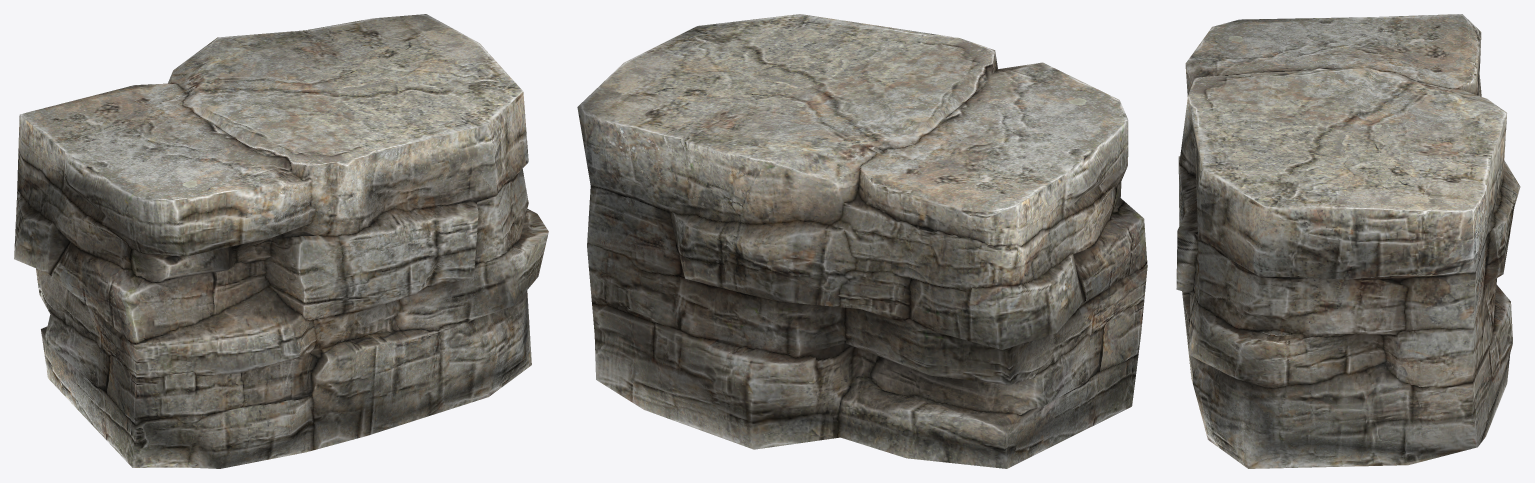
Rendered from Cliff1_LOD1.fbx.
3 renders of one model, left to right at view 1: azimuth 30°, elevation 25°; view 2: azimuth 150°, elevation 25°; view 3: azimuth 270°, elevation 25°, orthographic. The views are drawn at different scales.
Parts seen in each view (by area): view 1: Cliff1_400_Group22018; view 2: Cliff1_400_Group22018; view 3: Cliff1_400_Group22018.
Part boxes in pixels (x1,y1,x2,y2): Cliff1_400_Group22018: [14, 14, 548, 468]; Cliff1_400_Group22018: [577, 14, 1147, 468]; Cliff1_400_Group22018: [1176, 14, 1520, 468].
Bounding box in the file's own units: 8.97 × 5.5 × 6.12.
Materials: 1 (1 with a texture image).
